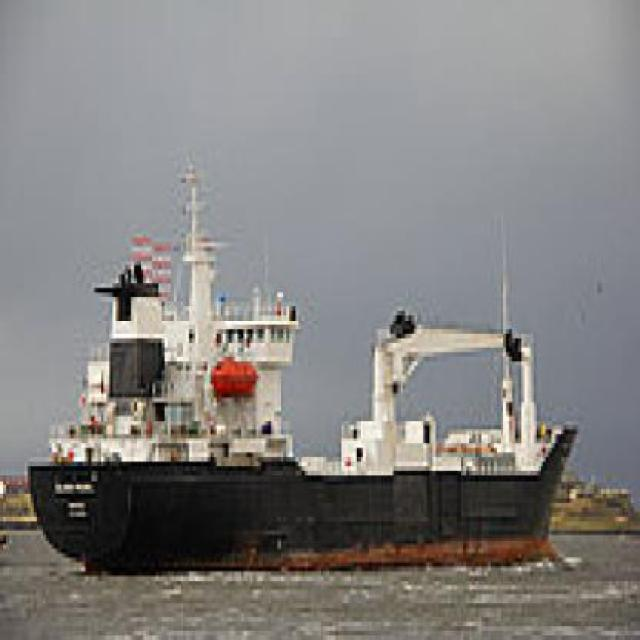container: (22, 165, 599, 586)
